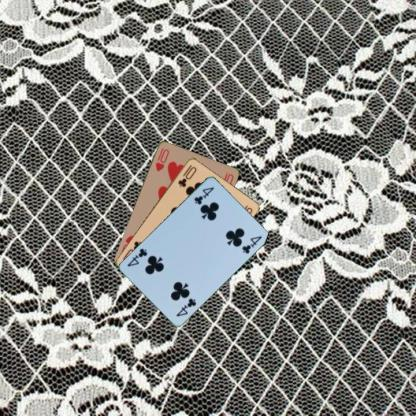10c: (175, 162, 198, 188)
10h: (152, 145, 170, 172)
4c: (191, 184, 216, 206), (173, 295, 198, 317)
